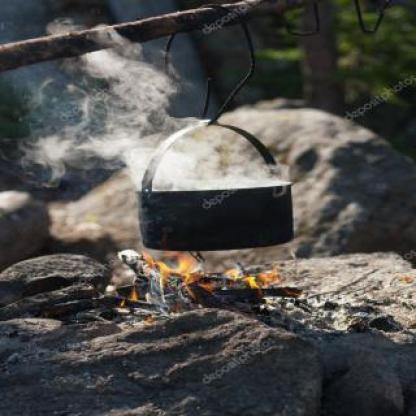fire: (130, 244, 284, 311)
